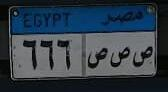6: (39, 37, 55, 72), (22, 38, 38, 72), (56, 37, 72, 70)
saad: (132, 42, 154, 71), (87, 43, 108, 71), (110, 45, 131, 70)
